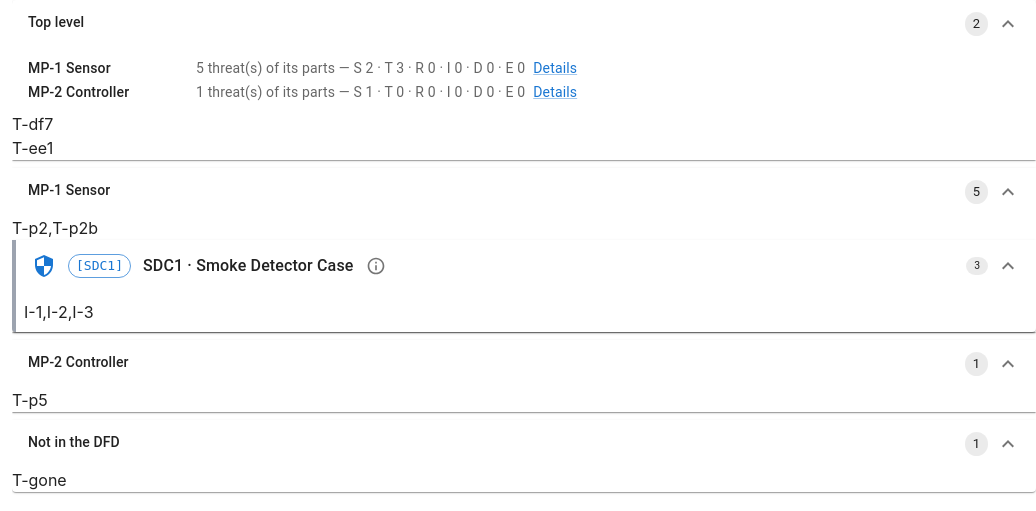
ThreatGroupSections — imported components › the info icon tells that the card is read-only
The image size is (1036, 511).
Hover over the icon with test id "imported-threats-info-imported-inst1".
mouse_move(376, 266)  # box [366,256,386,276]
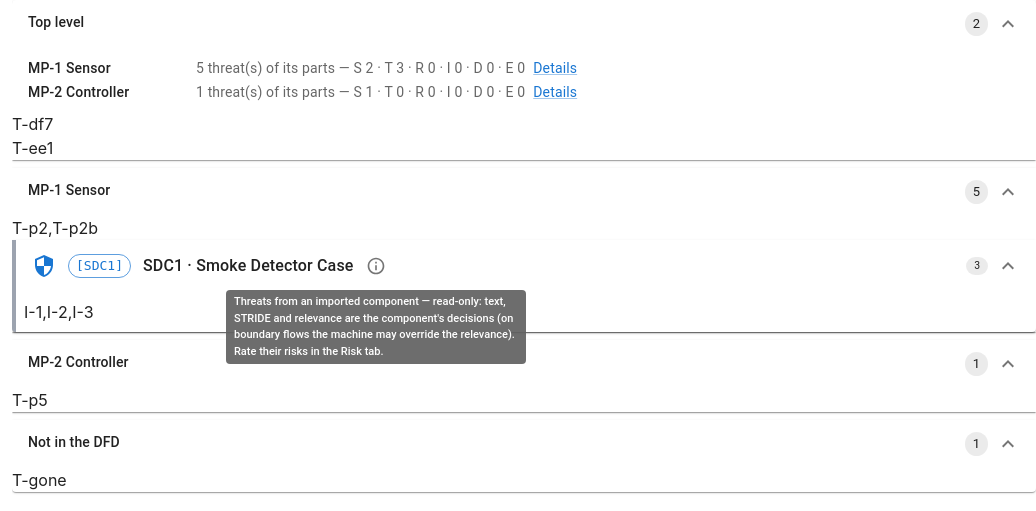
Check: the tooltip shows "read-only", box [234,295,515,358]
